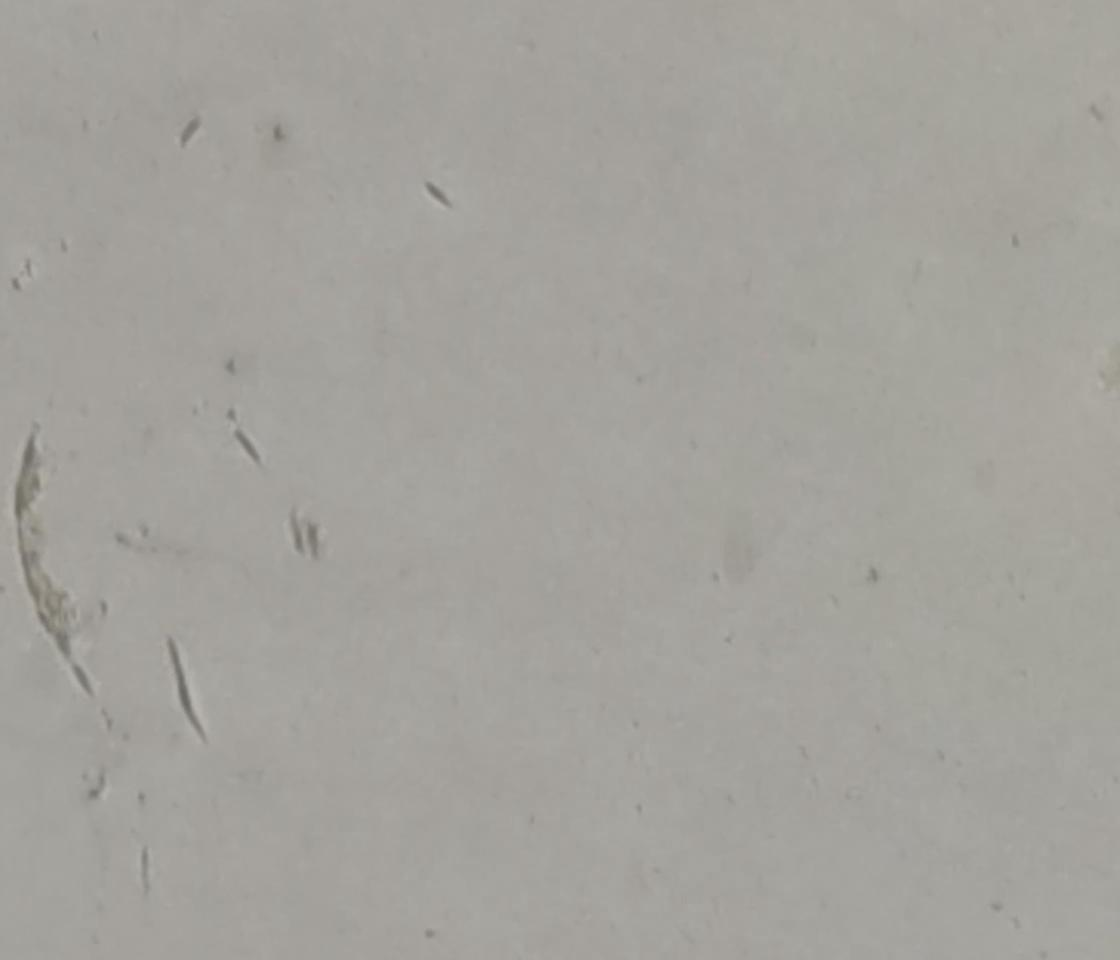scratch: (158, 633, 214, 748), (224, 426, 266, 474), (417, 178, 463, 214), (175, 115, 205, 150)
